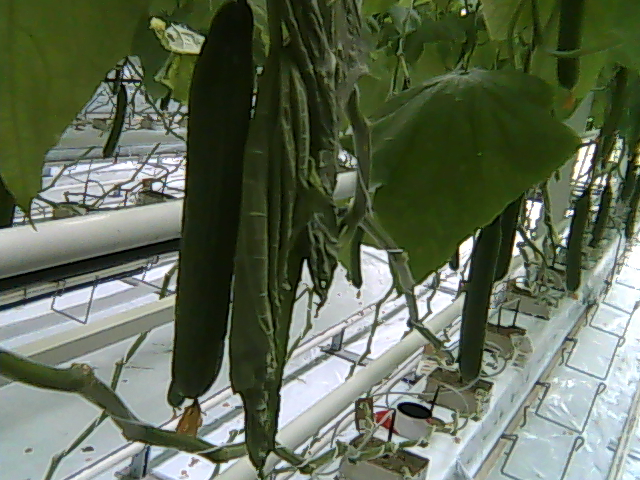concombre: (167, 1, 260, 442), (458, 215, 514, 388)
